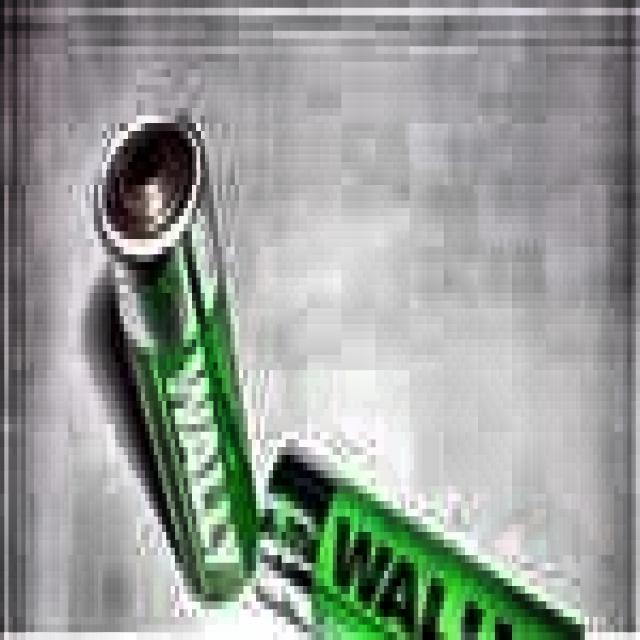Non-Valuable Waste - Batteries: (99, 122, 257, 598), (259, 454, 580, 638)
